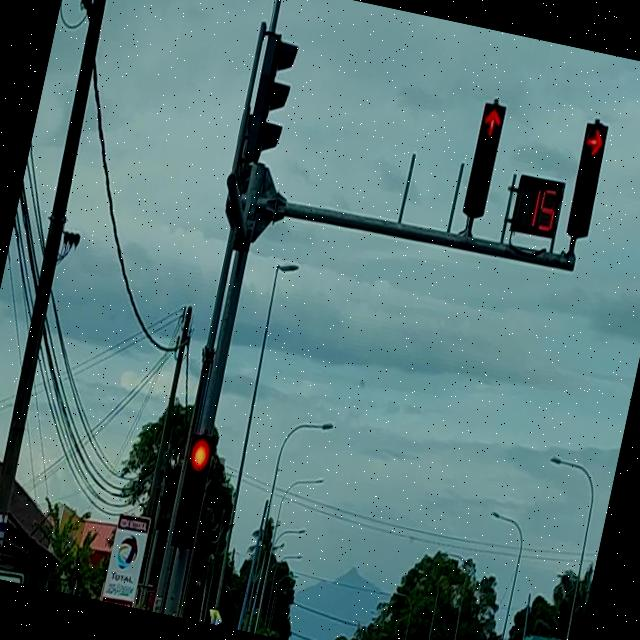red_light: (562, 120, 610, 242), (168, 432, 214, 550), (461, 101, 506, 217)
